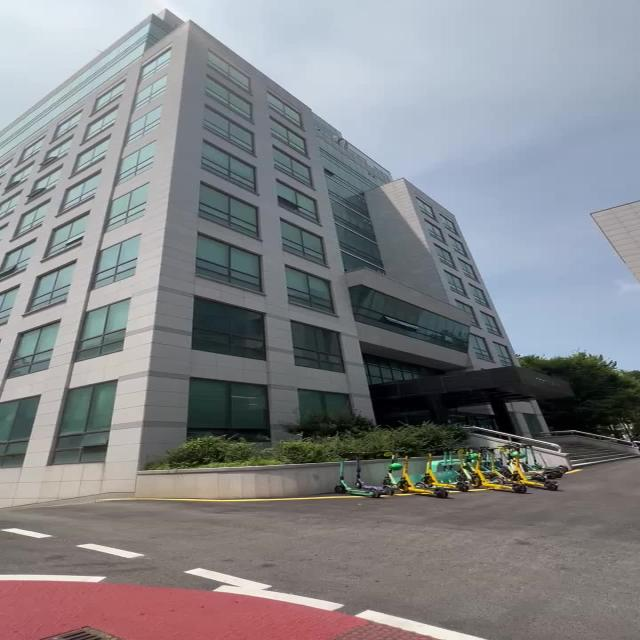building: (5, 7, 560, 415)
